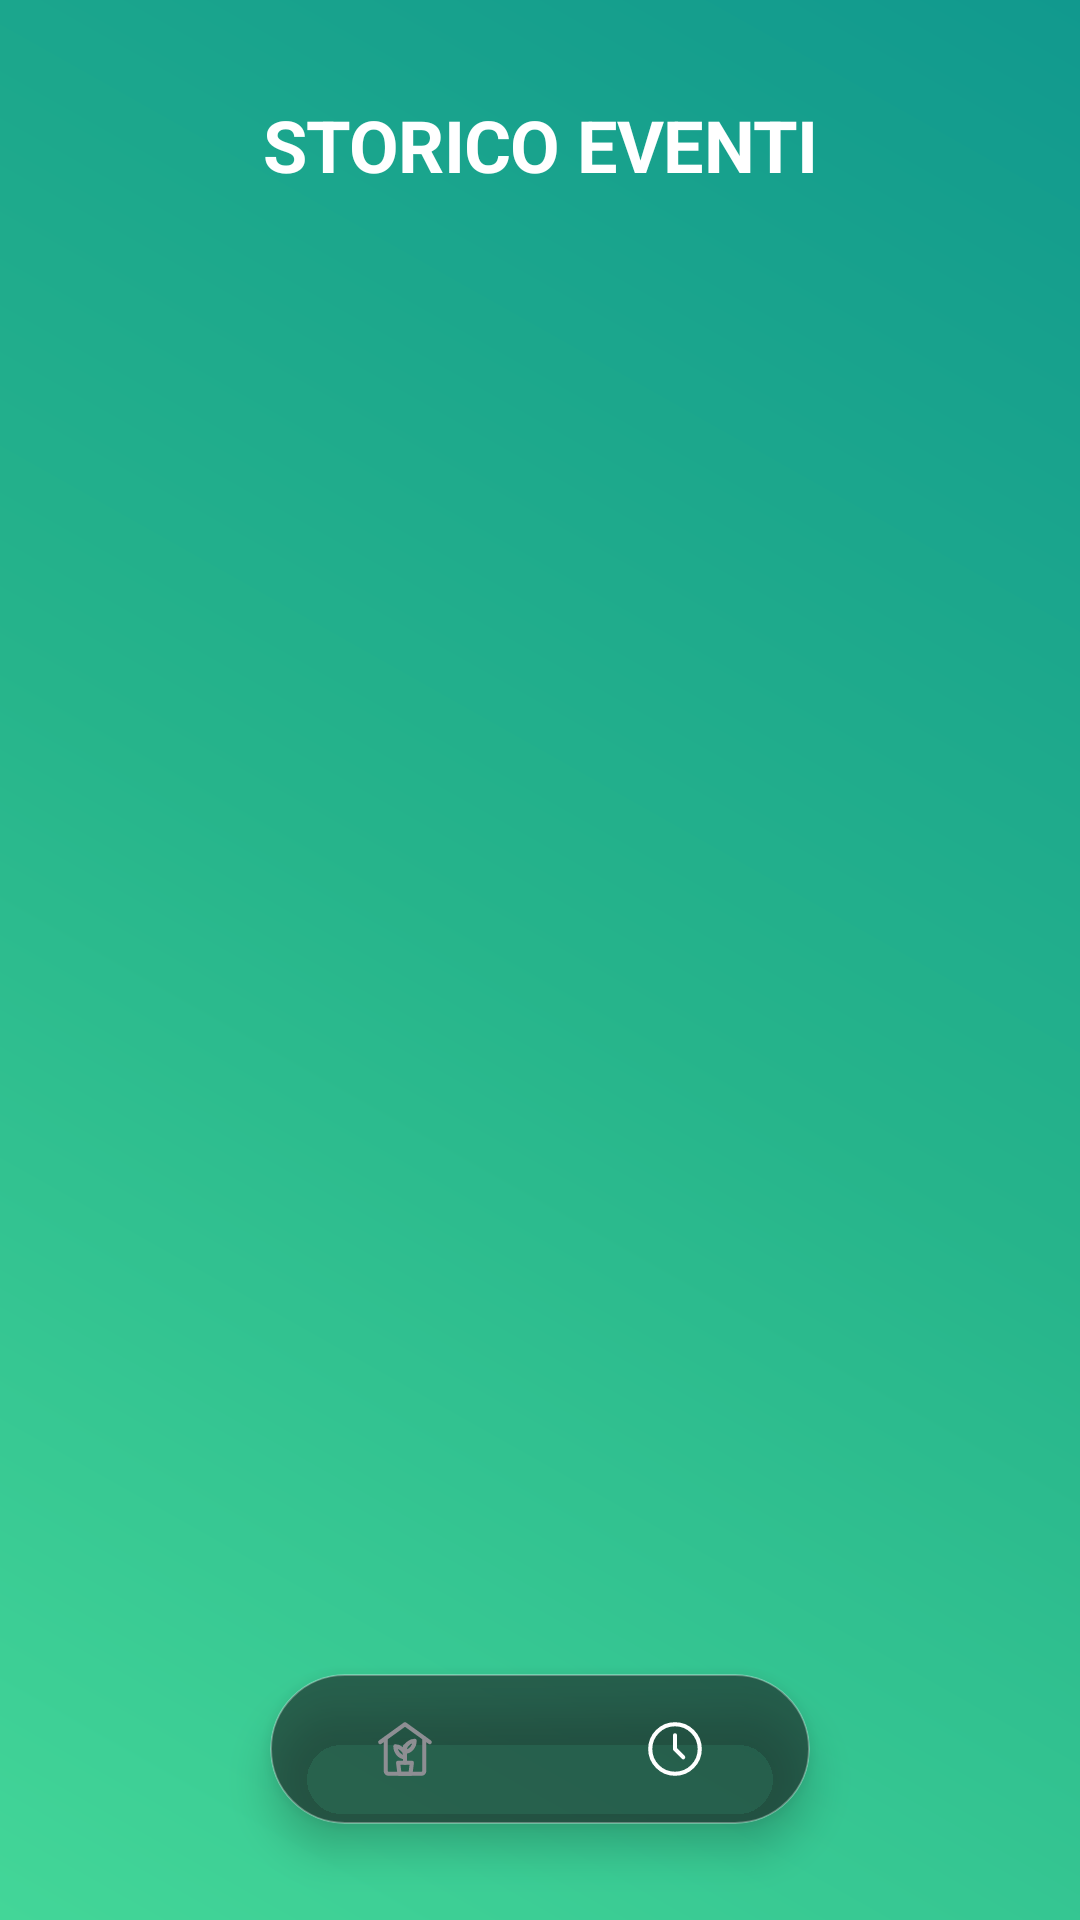

Locate icon controls on the screen. Image size 1080*1920, boxes as (x1, y1, x2, y2).
greenhouse: (372, 1722, 438, 1782)
history: (642, 1722, 708, 1782)
